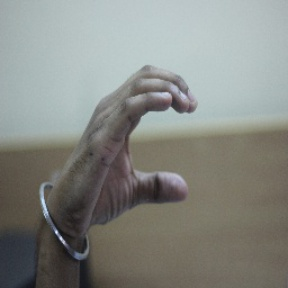C: (94, 61, 210, 212)
